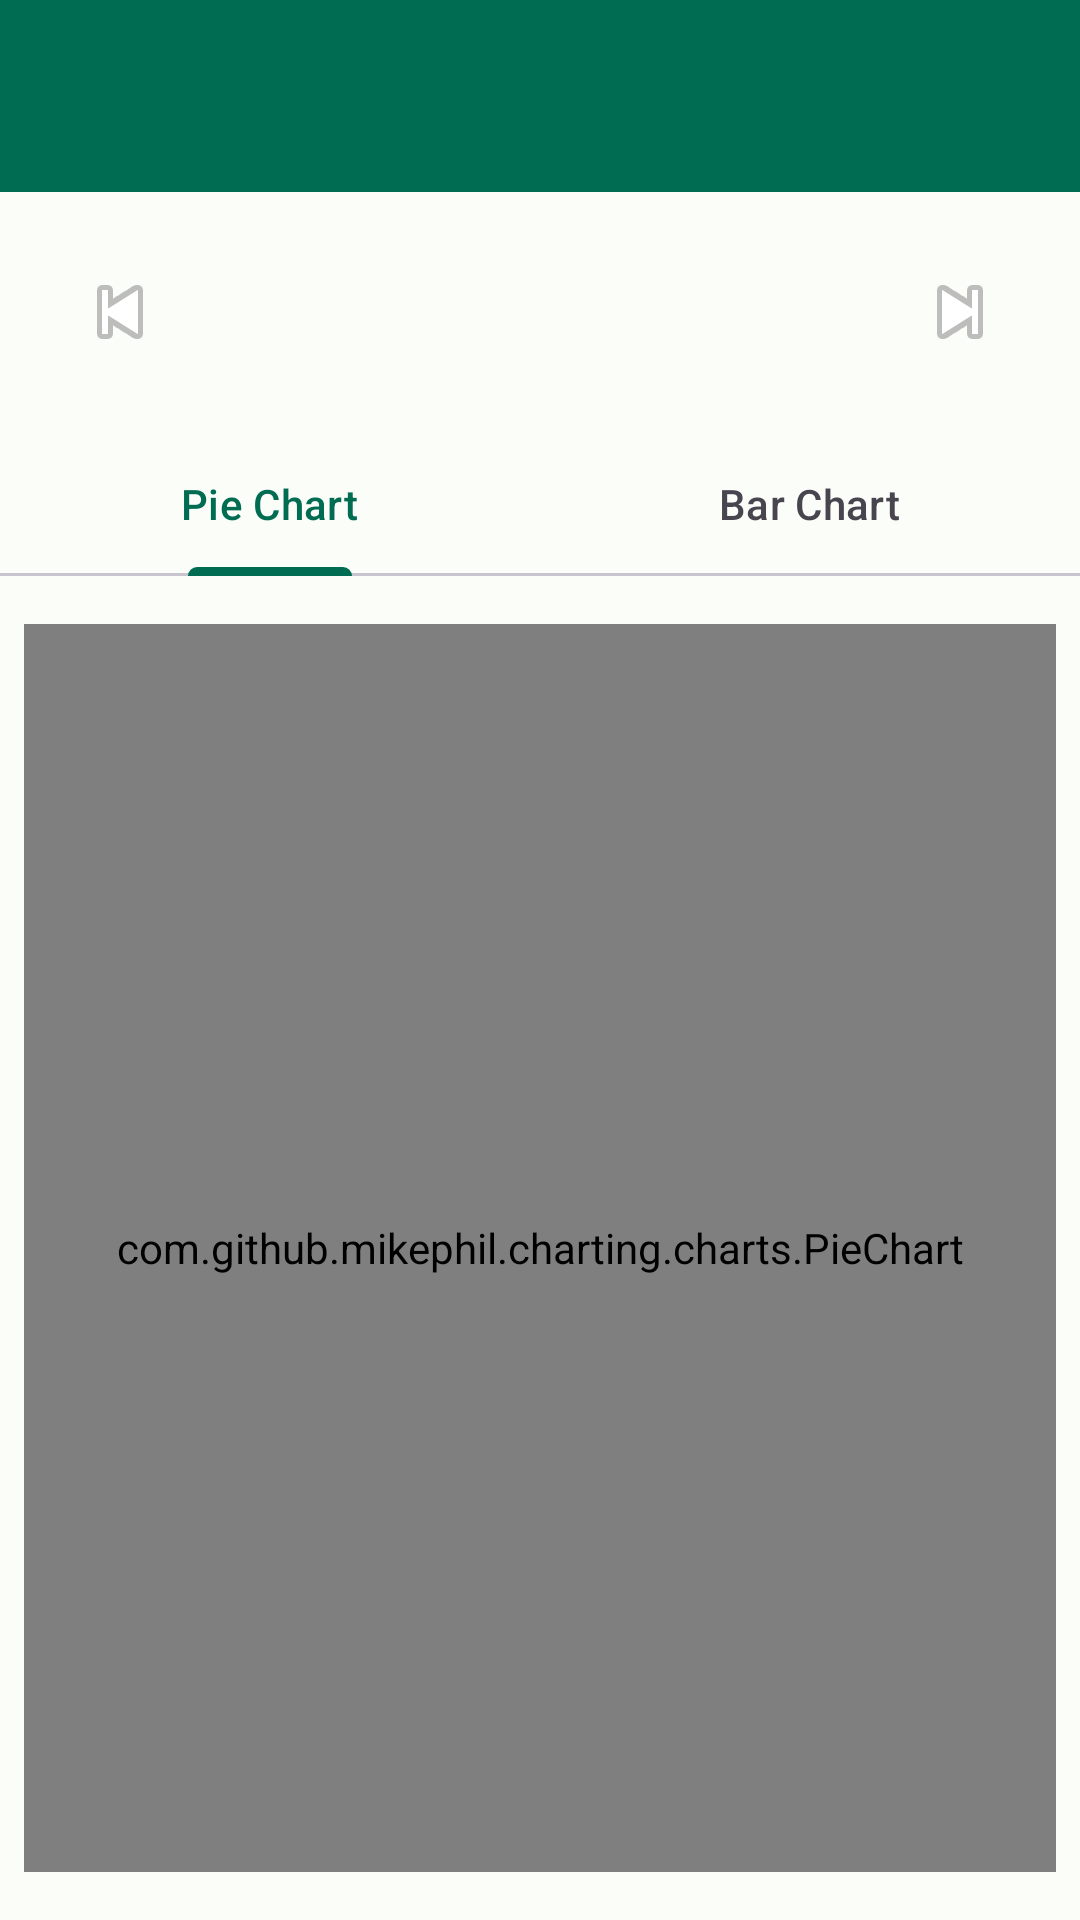

Screen size 1080 × 1920. Icon name, then its box in pixels as (x1, y1, x2, y2):
Next Month: (937, 285, 983, 339)
Previous Month: (97, 285, 143, 339)
